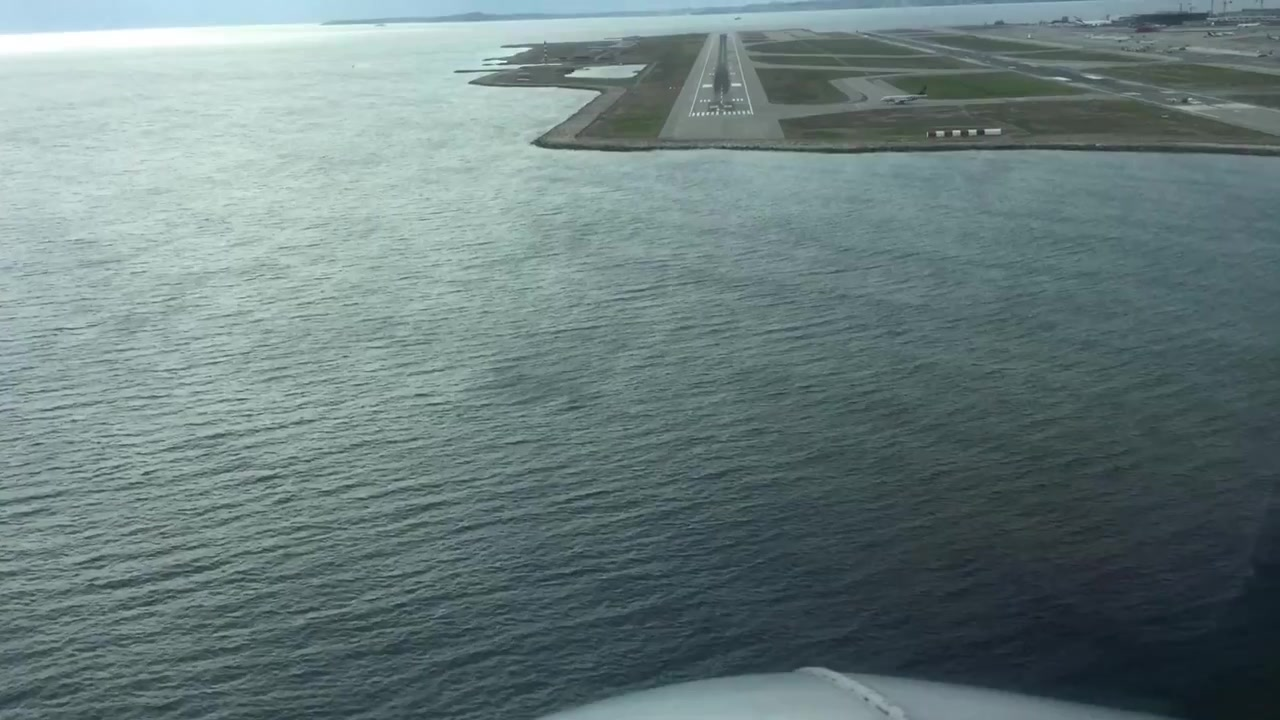entrance: (689, 107, 752, 117)
runway: (866, 31, 1254, 111), (657, 33, 784, 141)
